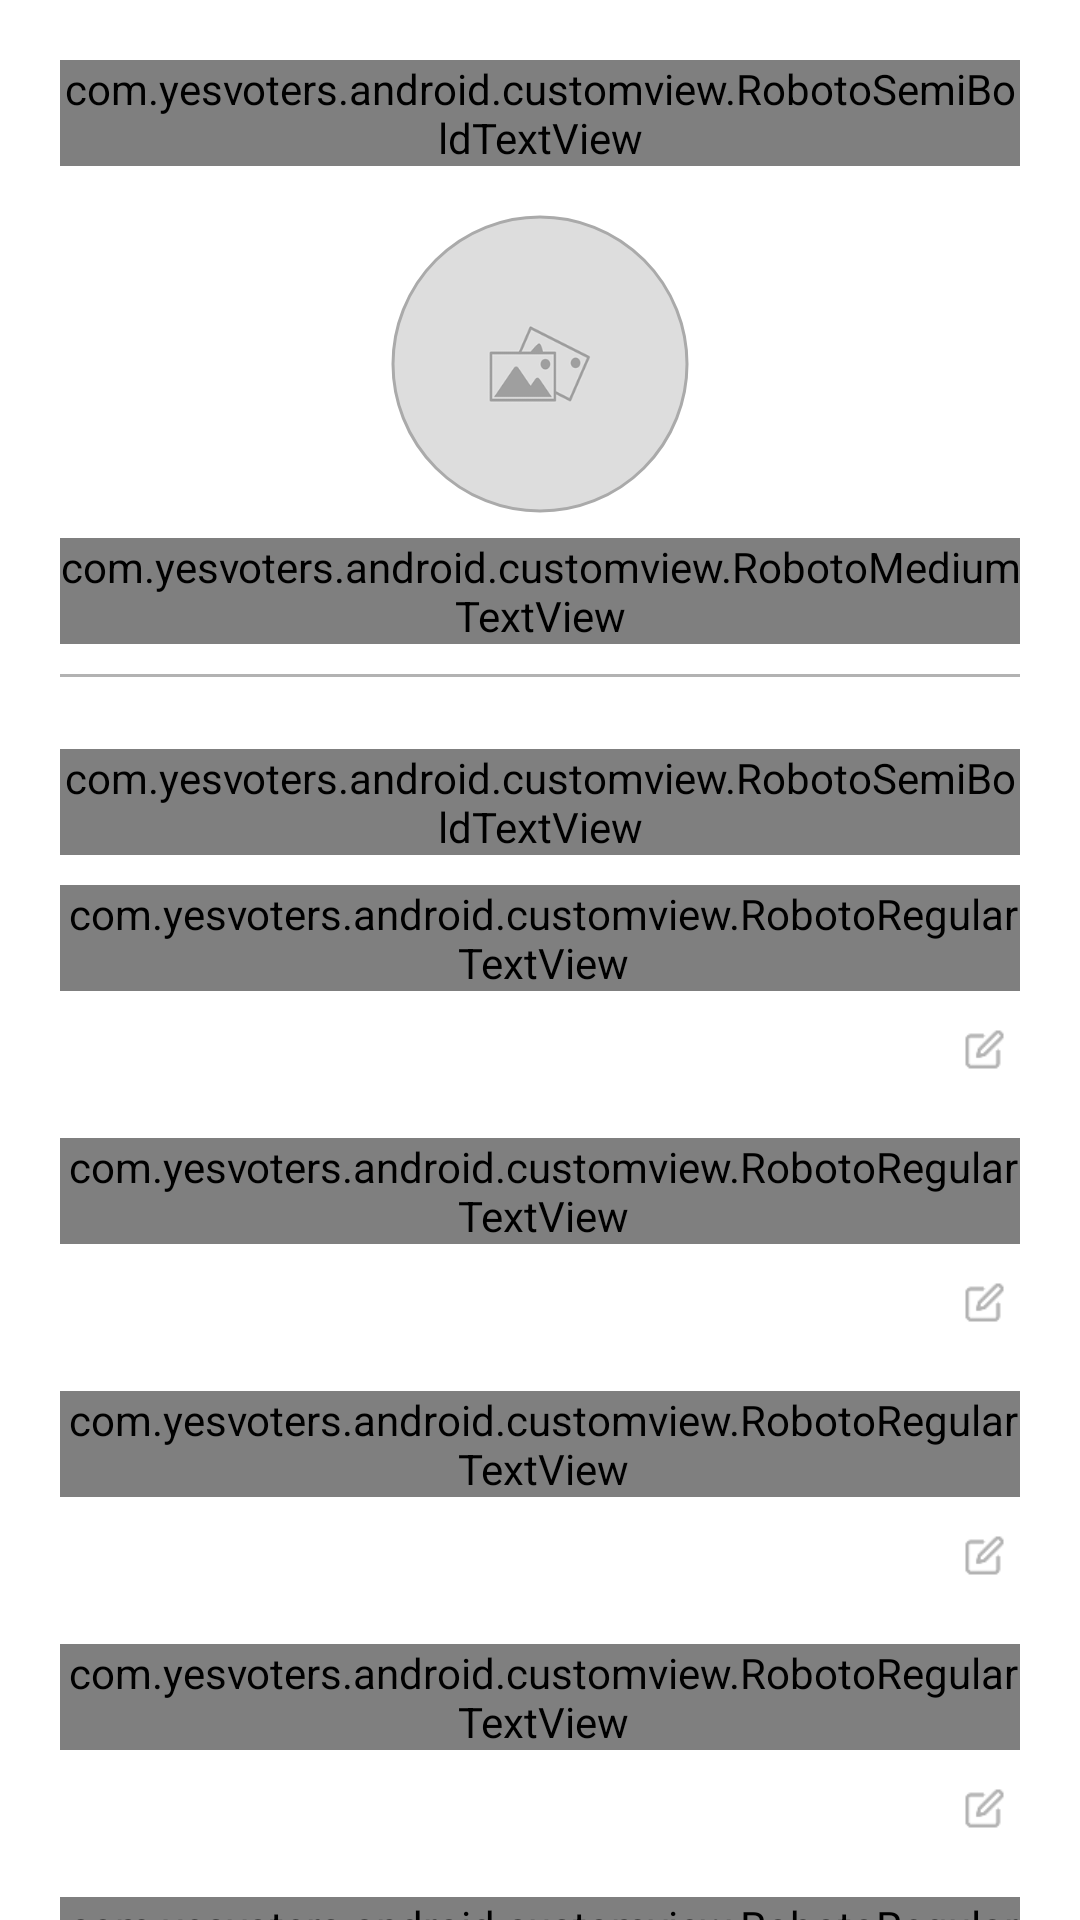

Named icons in this screenshot (1080 x 1920) and their bounding boxes, Rect(x1, y1, x2, y2):
Edit: Rect(965, 1030, 1004, 1069), Rect(965, 1283, 1004, 1322), Rect(965, 1536, 1004, 1575), Rect(965, 1789, 1004, 1828)
